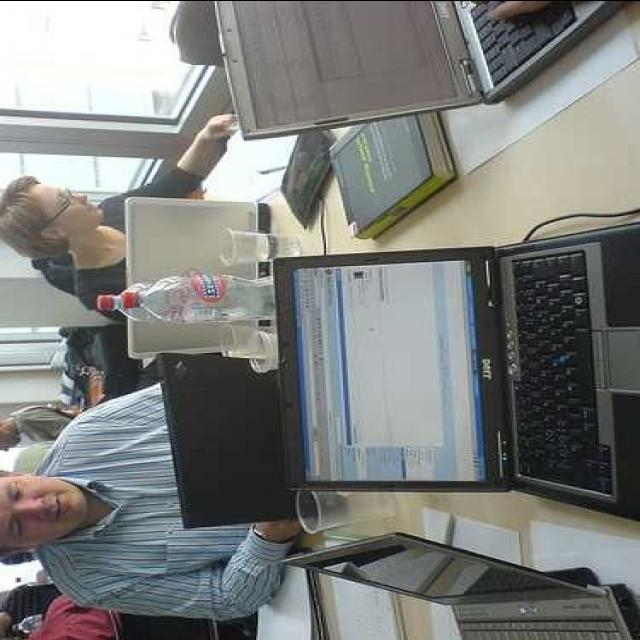laptop: (271, 219, 628, 521), (214, 0, 606, 136), (308, 532, 638, 640), (154, 360, 308, 527), (124, 190, 262, 358)
